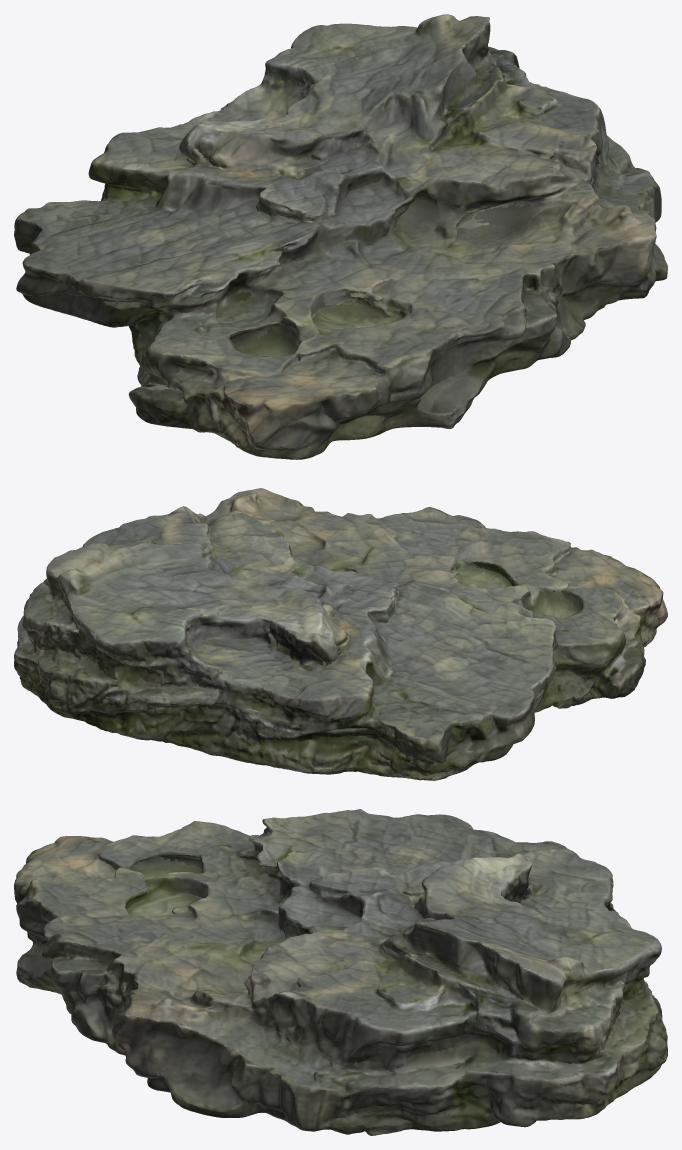
The model's file is tidal-reef.glb.
The picture shows the model from 3 angles, top to bottom: view 1: azimuth 30°, elevation 25°; view 2: azimuth 150°, elevation 25°; view 3: azimuth 270°, elevation 25°; orthographic projection. The views are drawn at different scales.
Visible parts, largest first — view 1: geometry_0; view 2: geometry_0; view 3: geometry_0.
Boxes of the visible parts, x1,y1,x2,y2 form: geometry_0: (14,14,667,459); geometry_0: (14,488,667,780); geometry_0: (14,809,667,1135).
Size of the model in its own units: 1.2 by 0.3356 by 1.18.
1 material, 1 textured.
